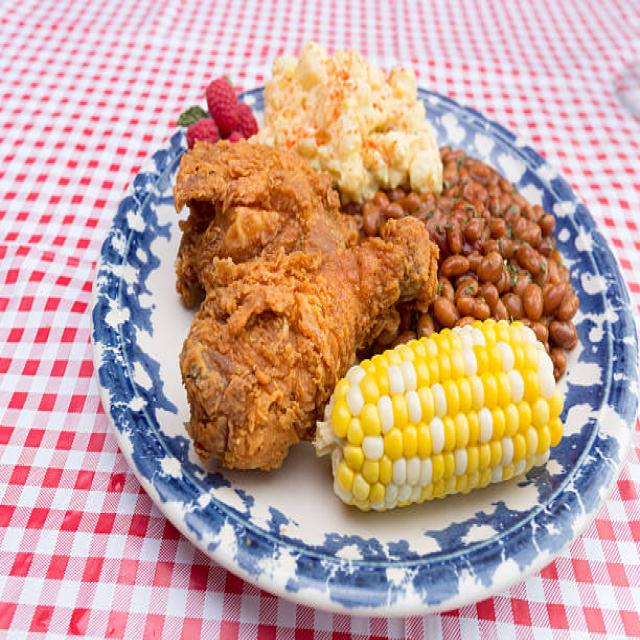Frango: (172, 122, 442, 472)
